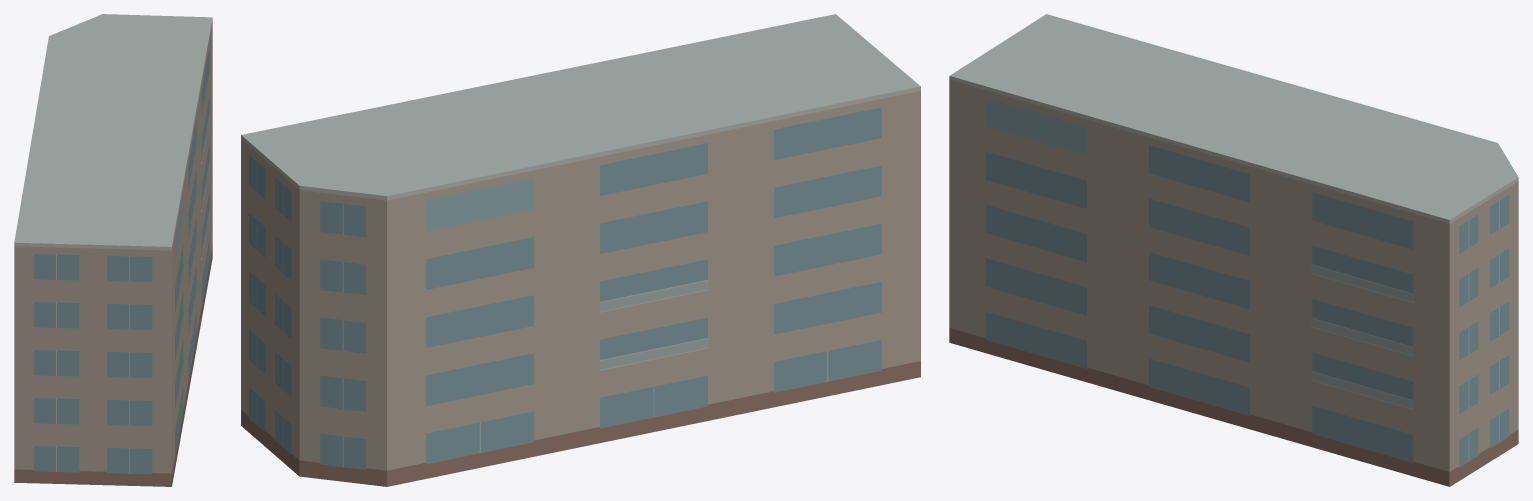
Rendered from survey-upis-32981776.glb.
3 renders of one model, left to right at view 1: azimuth 30°, elevation 25°; view 2: azimuth 150°, elevation 25°; view 3: azimuth 270°, elevation 25°, orthographic. The views are drawn at different scales.
Visible parts, largest first — view 1: survey-upis-32981776.tmp; view 2: survey-upis-32981776.tmp; view 3: survey-upis-32981776.tmp.
Part boxes in pixels (x1,y1,x2,y2): survey-upis-32981776.tmp: [14, 14, 212, 486]; survey-upis-32981776.tmp: [241, 14, 920, 486]; survey-upis-32981776.tmp: [949, 14, 1518, 486].
Size of the model in its own units: 26.67 by 16.1 by 31.13.
